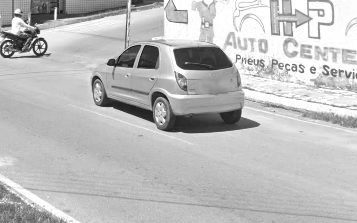car: (88, 37, 249, 138)
